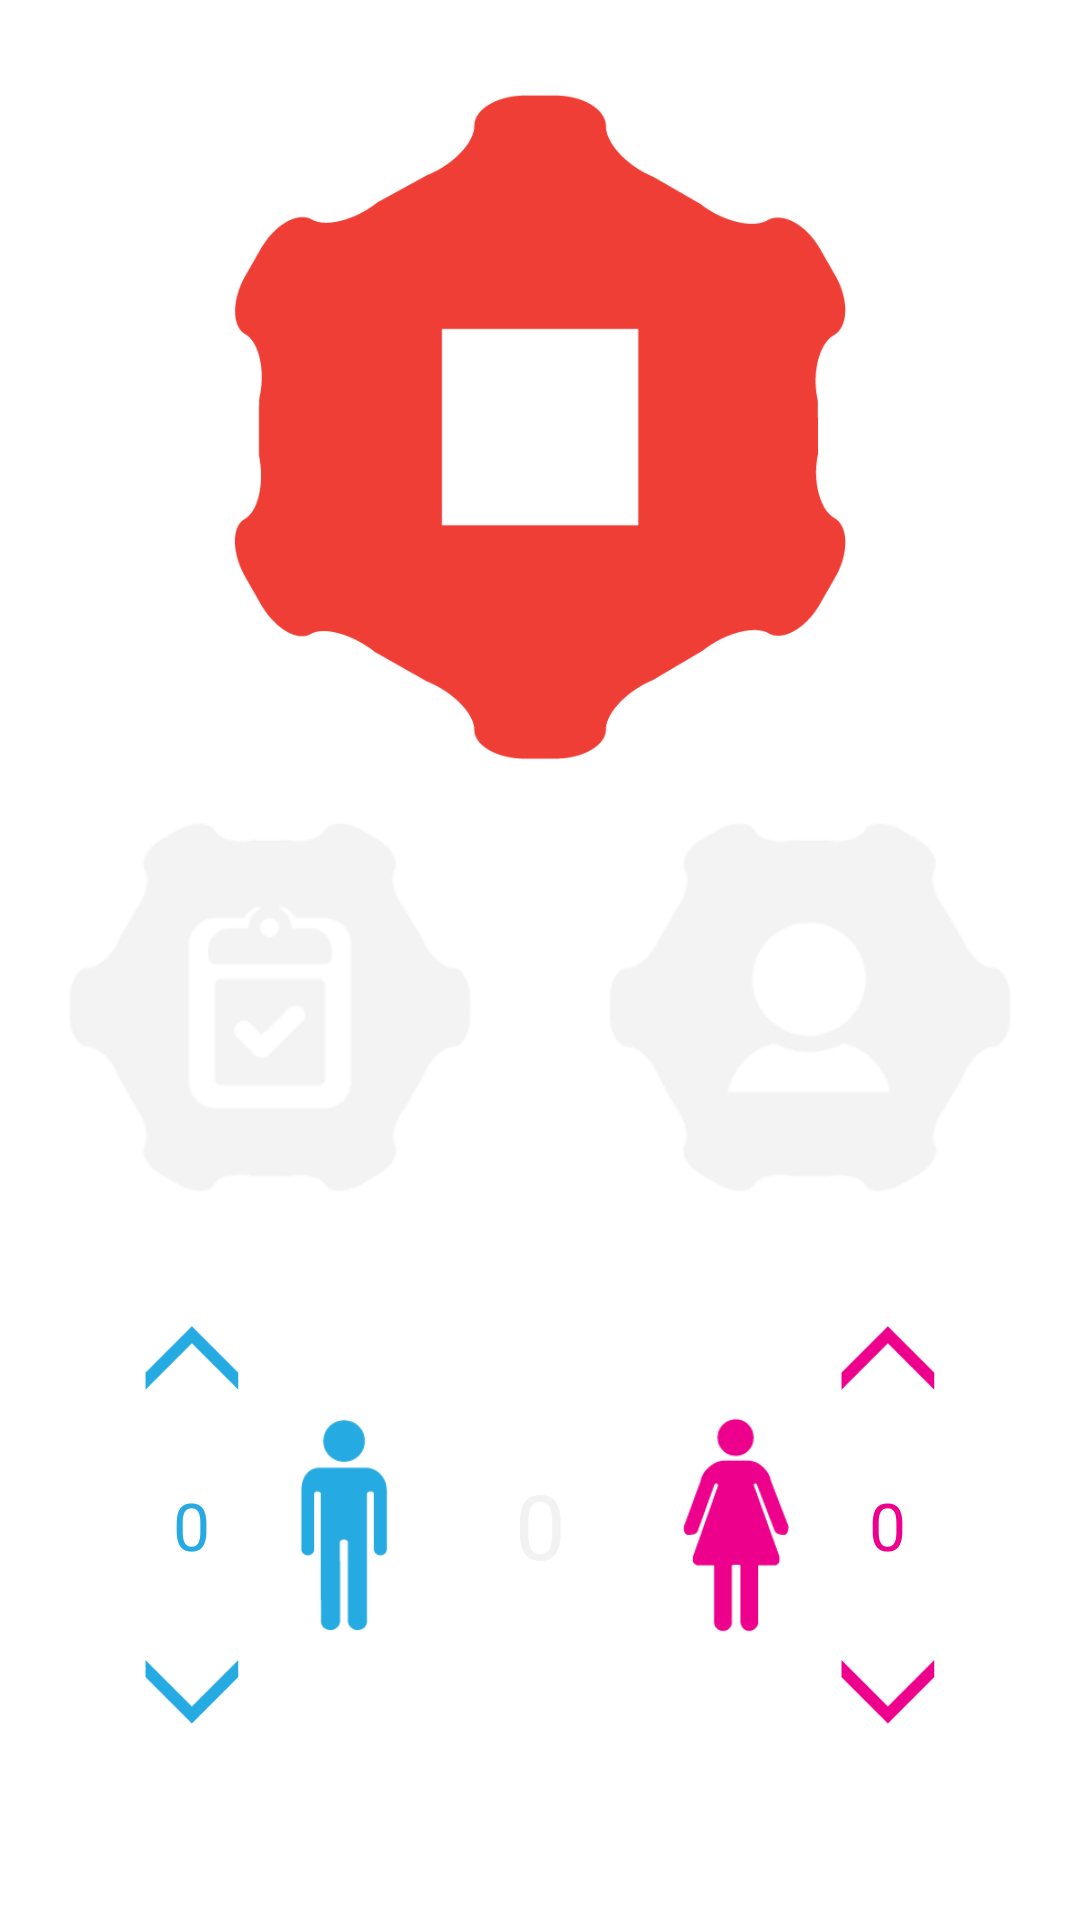

Named icons in this screenshot (1080w x 1920h) and their bounding boxes, (x1, y1, x2, y2):
Fewer men button: (145, 1660, 239, 1724)
Fewer women button: (841, 1660, 935, 1724)
More men button: (145, 1326, 239, 1390)
More women button: (841, 1326, 935, 1390)
